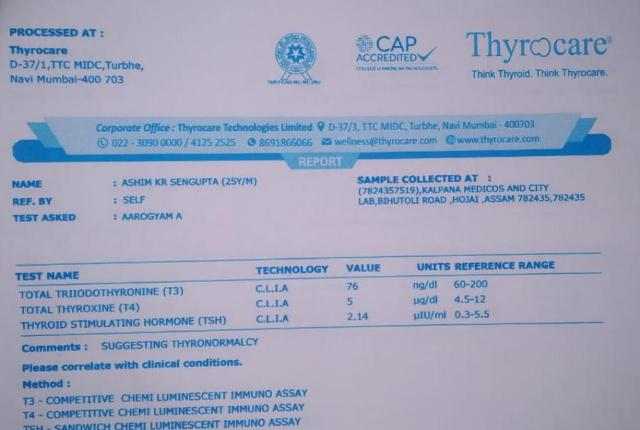Name: (120, 177, 261, 187)
Ref_By: (120, 194, 148, 205)
Reference_Range: (17, 391, 307, 430), (452, 277, 495, 323)
Technology: (251, 279, 298, 328)
Test_Asked: (121, 210, 188, 225)
Test_Name: (15, 280, 229, 337)
Unit: (411, 276, 450, 324)
Value: (343, 278, 376, 325)
